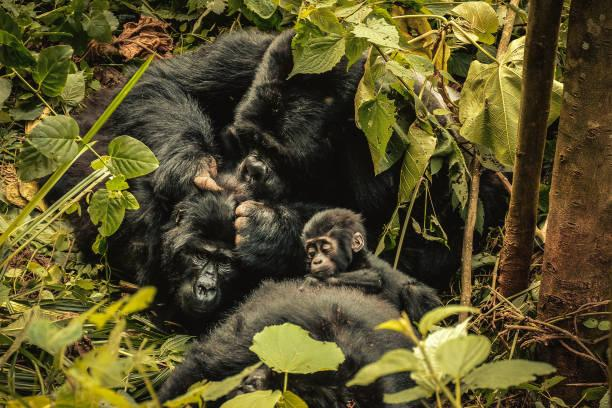goriile_montagne: (143, 32, 453, 251), (286, 209, 426, 321), (151, 206, 260, 324)
